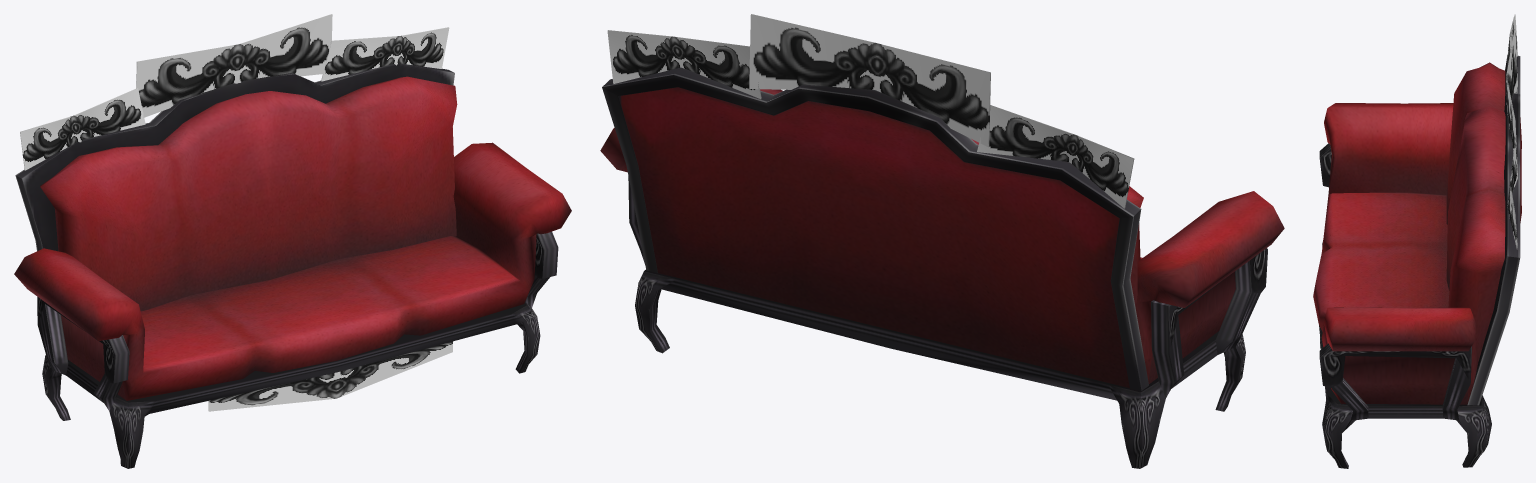
Rendered from VictorianSofa_HD.fbx.
3 renders of one model, left to right at view 1: azimuth 30°, elevation 25°; view 2: azimuth 150°, elevation 25°; view 3: azimuth 270°, elevation 25°, orthographic. The views are drawn at different scales.
Visible parts, largest first — view 1: VictorianSofa; view 2: VictorianSofa; view 3: VictorianSofa.
Part boxes in pixels (bbox=[...]): VictorianSofa: bbox=[14, 14, 571, 468]; VictorianSofa: bbox=[600, 14, 1284, 468]; VictorianSofa: bbox=[1313, 14, 1521, 468].
Size of the model in its own units: 1.97 by 1.23 by 0.7715.
